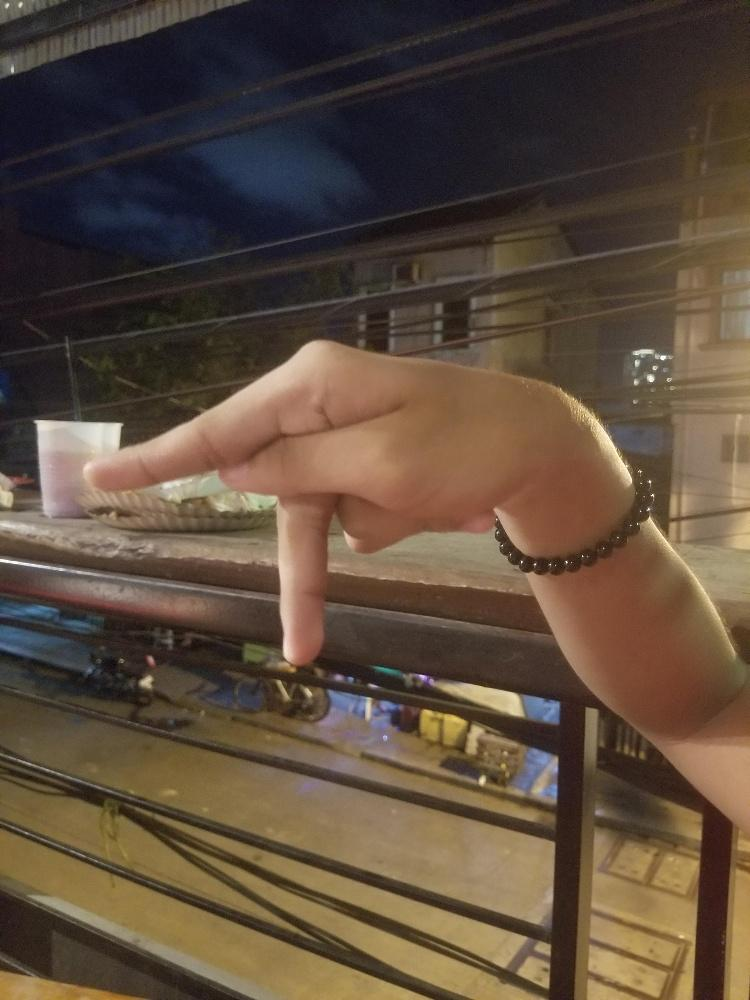p: (82, 339, 564, 670)
